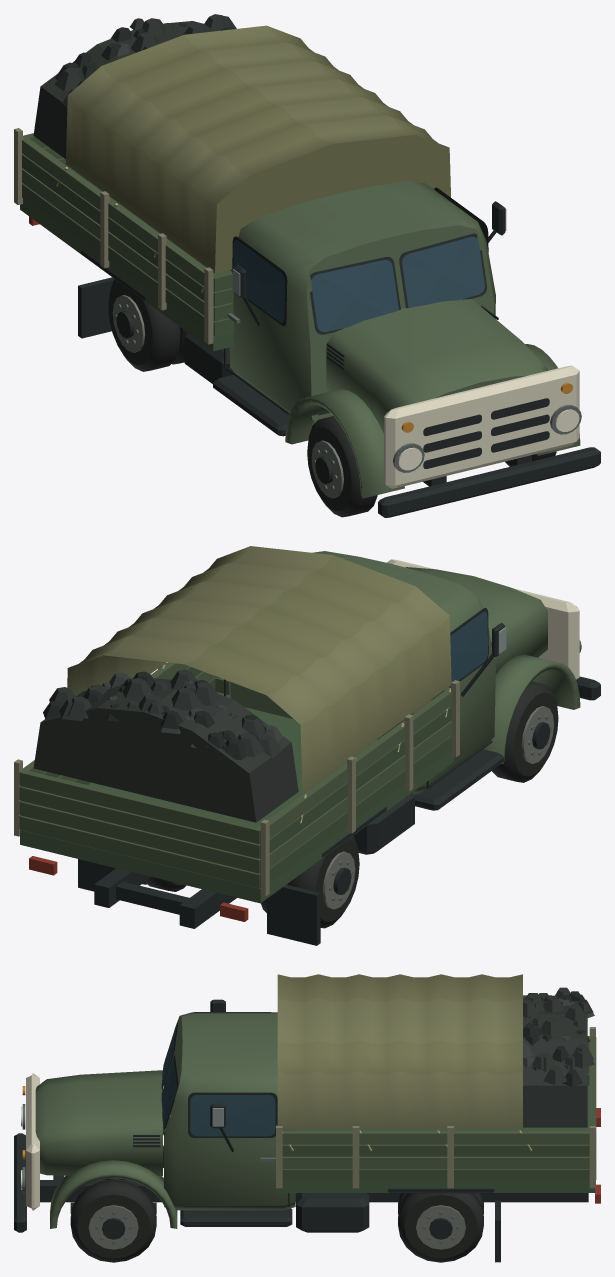
The model's file is truck_zil_flatbed.glb.
3 views of the same model, one above another, from view 1: azimuth 30°, elevation 25°; view 2: azimuth 150°, elevation 25°; view 3: azimuth 270°, elevation 25° (orthographic). The views are drawn at different scales.
Parts seen in each view (by area): view 1: ZIL_Coal; view 2: ZIL_Coal; view 3: ZIL_Coal.
Boxes of the visible parts, x1,y1,x2,y2 form: ZIL_Coal: (14,14,600,517); ZIL_Coal: (14,546,600,945); ZIL_Coal: (14,974,600,1262).
Size of the model in its own units: 3.05 by 2.98 by 7.06.
